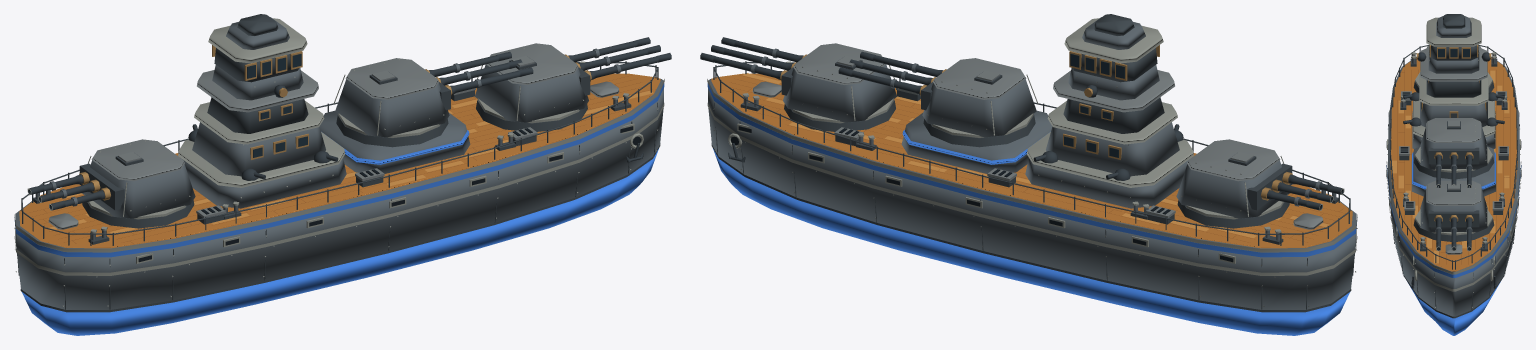
The picture shows the model from 3 angles, left to right: view 1: azimuth 30°, elevation 25°; view 2: azimuth 150°, elevation 25°; view 3: azimuth 270°, elevation 25°; orthographic projection. The views are drawn at different scales.
Parts seen in each view (by area): view 1: 麦哲伦 · 重装无畏舰; view 2: 麦哲伦 · 重装无畏舰; view 3: 麦哲伦 · 重装无畏舰.
Part boxes in pixels (x1,y1,x2,y2): 麦哲伦 · 重装无畏舰: (14,14,671,335); 麦哲伦 · 重装无畏舰: (700,14,1357,335); 麦哲伦 · 重装无畏舰: (1386,14,1521,335).
Bounding box in the file's own units: 2.55 × 0.981 × 0.6566.
